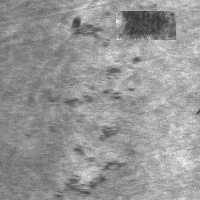patches: (116, 11, 176, 40)
rolled-in_scale: (61, 65, 124, 199), (67, 13, 114, 51)
